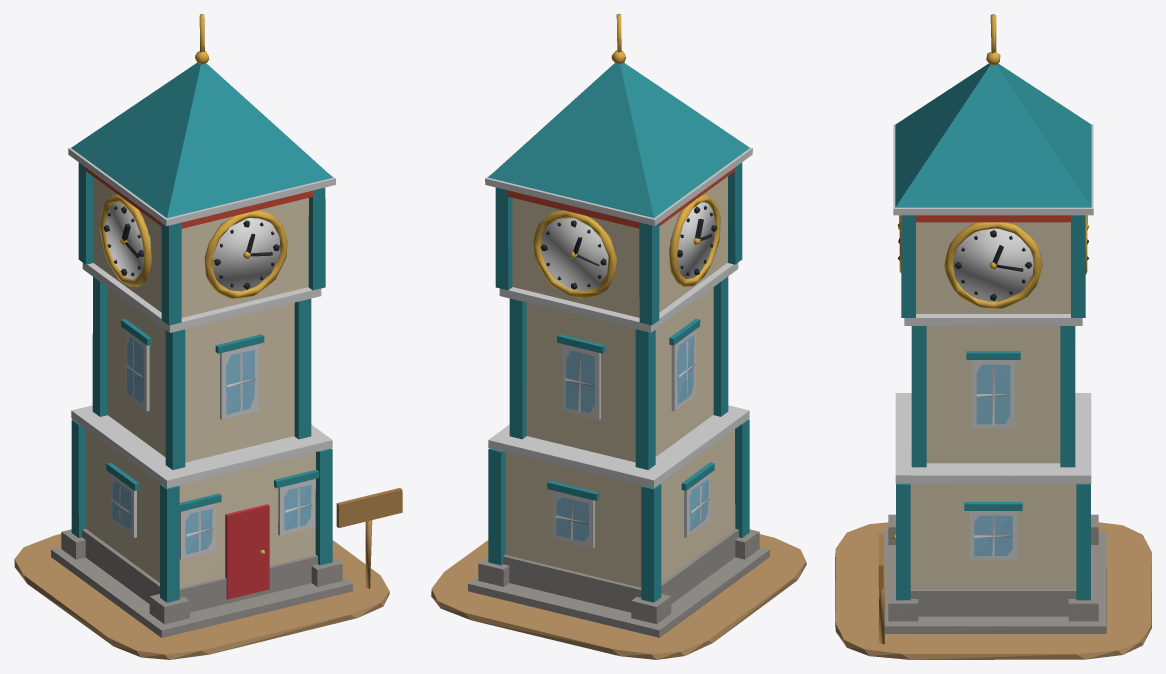
The model's file is clock-tower-lod1-4.ca4ba83a.glb.
3 views of the same model, side by side, from view 1: azimuth 30°, elevation 25°; view 2: azimuth 150°, elevation 25°; view 3: azimuth 270°, elevation 25° (orthographic). The views are drawn at different scales.
Visible parts, largest first — view 1: ClockTower_Stage4__T_vcol; view 2: ClockTower_Stage4__T_vcol; view 3: ClockTower_Stage4__T_vcol.
Boxes of the visible parts, x1,y1,x2,y2 form: ClockTower_Stage4__T_vcol: (14, 14, 402, 659); ClockTower_Stage4__T_vcol: (431, 14, 806, 659); ClockTower_Stage4__T_vcol: (835, 14, 1151, 659).
Bounding box in the file's own units: 4.96 × 9.62 × 4.78.
